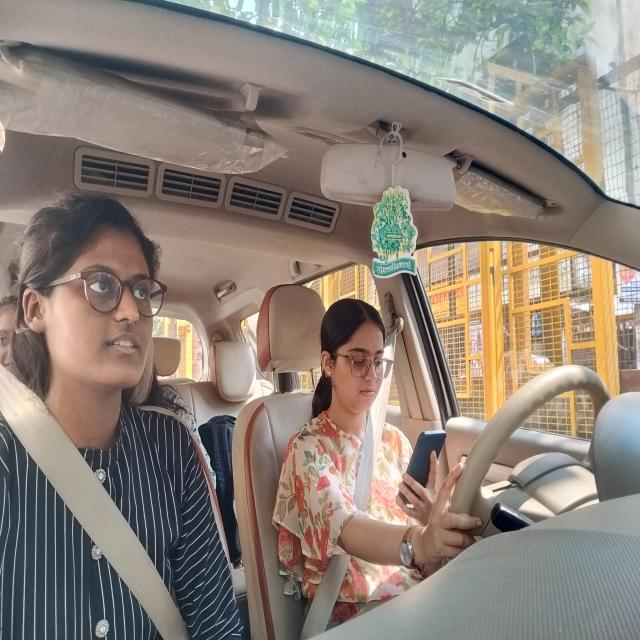mobile: (398, 425, 447, 514)
person: (15, 195, 167, 393), (319, 295, 390, 423), (0, 298, 22, 376)
